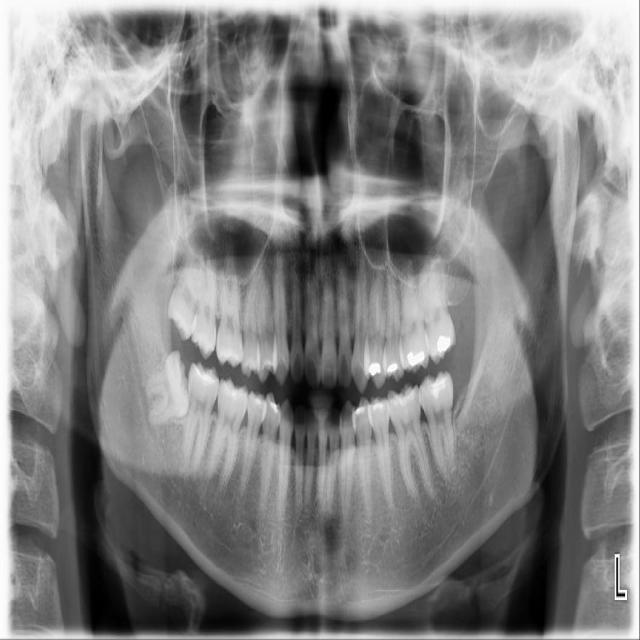3M ESPE Implant: (161, 231, 216, 343)
52: (382, 379, 429, 436), (413, 368, 461, 422), (180, 359, 225, 416), (422, 304, 458, 366), (396, 321, 431, 375), (217, 377, 249, 428), (348, 395, 377, 446), (366, 393, 394, 440), (363, 339, 387, 388), (260, 390, 282, 440), (382, 337, 405, 382), (246, 390, 269, 434)
73: (548, 564, 552, 575)
BioHorizons Implant: (419, 256, 458, 365)
Blue Sky Bio Implant: (418, 370, 458, 483)
Caries: (191, 247, 218, 361)
Implant: (178, 360, 223, 473)
Keystone Dental Implant: (142, 349, 193, 426)
